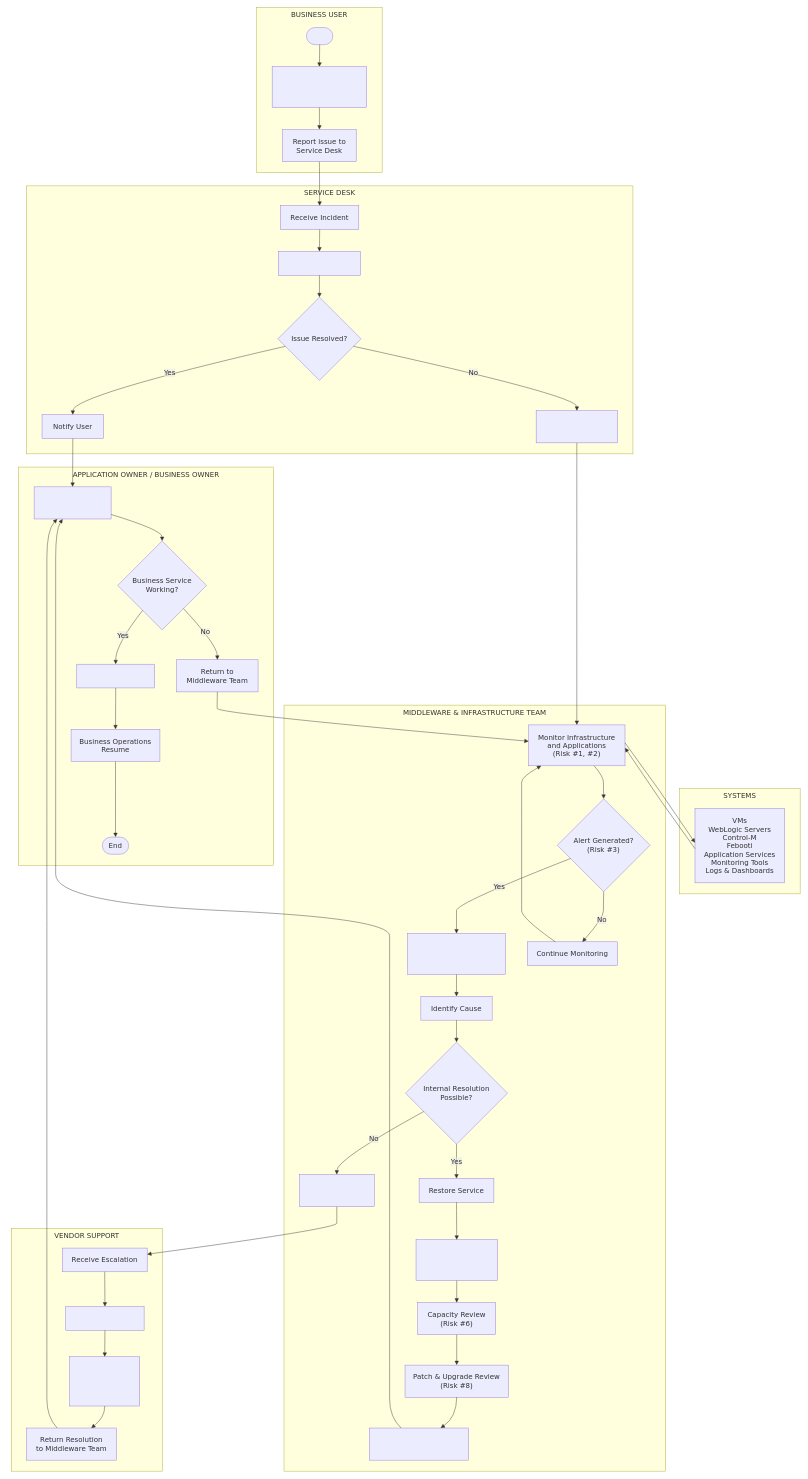
This 808x1479 diagram has some shape labels left out. The centre of each missing label's shape, as x and y in pixels:
Approve Closure: point (115, 676)
Documentation Update (Risk #10): point (418, 1444)
Escalate to Middleware Team: point (577, 426)
Escalate to Vendor Support: point (336, 1190)
Initial Assessment: point (319, 263)
Investigate Issue: point (104, 1318)
Provide Fix / Workaround / Patch (Risk #9): point (104, 1381)
Review Logs & Monitoring Dashboards (Risk #4): point (456, 953)
Start: point (319, 36)
User unable to access application/service (Risk #5): point (319, 87)
Validate Service Functionality: point (72, 502)
Verify Availability and User Access (Risk #5): point (456, 1260)
